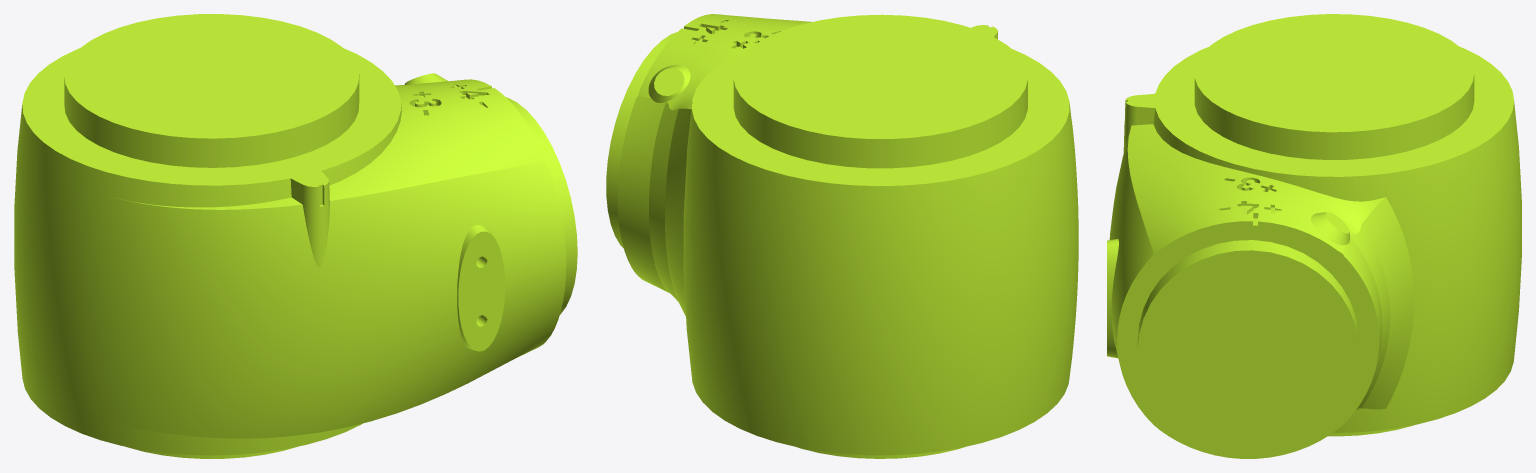
File: kuka_4.obj
The picture shows the model from 3 angles, left to right: view 1: azimuth 30°, elevation 25°; view 2: azimuth 150°, elevation 25°; view 3: azimuth 270°, elevation 25°; orthographic projection. The views are drawn at different scales.
Visible parts, largest first — view 1: 实体1; view 2: 实体1; view 3: 实体1.
Part boxes in pixels (x1,y1,x2,y2): 实体1: (14, 14, 577, 458); 实体1: (606, 14, 1078, 458); 实体1: (1107, 14, 1521, 458).
Size of the model in its own units: 193 by 138 by 169.
